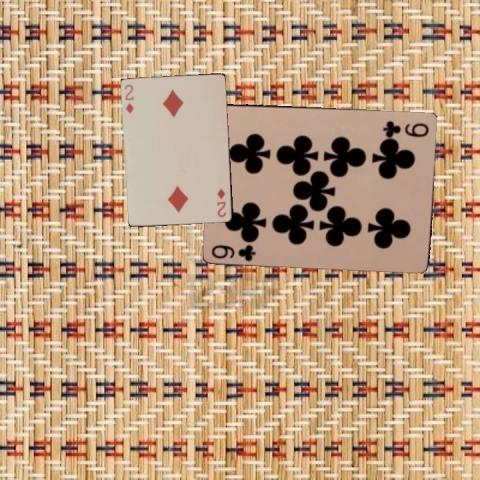2d: (122, 82, 135, 115), (215, 186, 227, 219)
9c: (209, 241, 257, 262), (380, 117, 431, 136)
